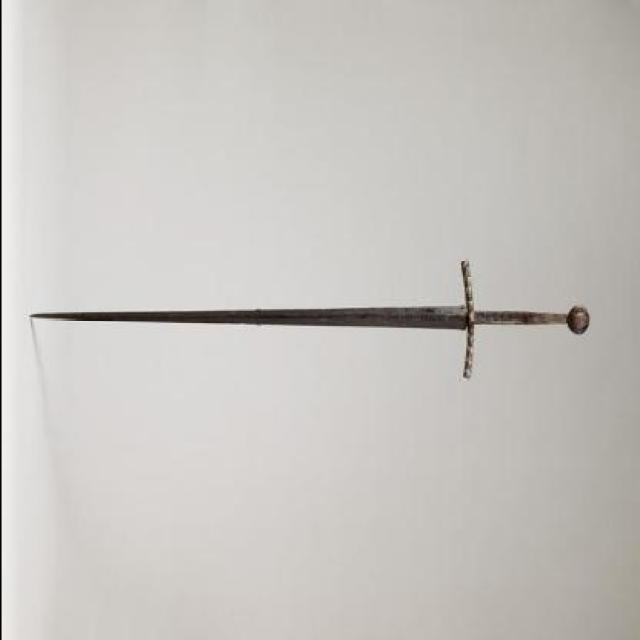weapon: (25, 260, 593, 378)
